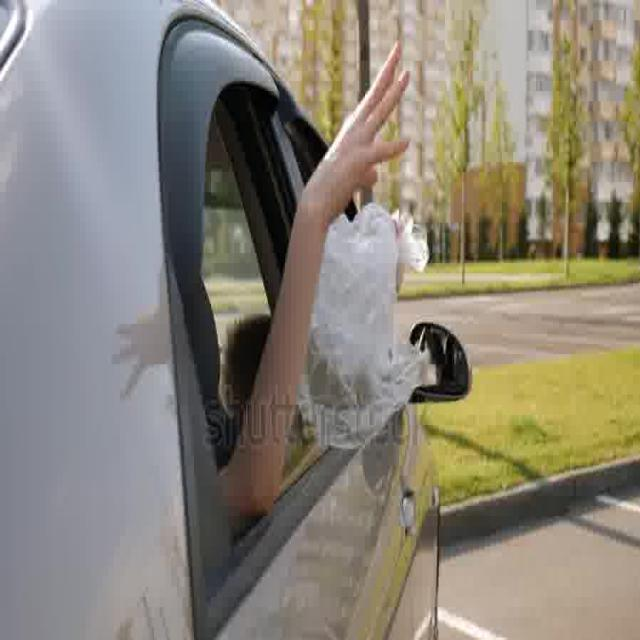garbage_dumping: (290, 200, 433, 453)
